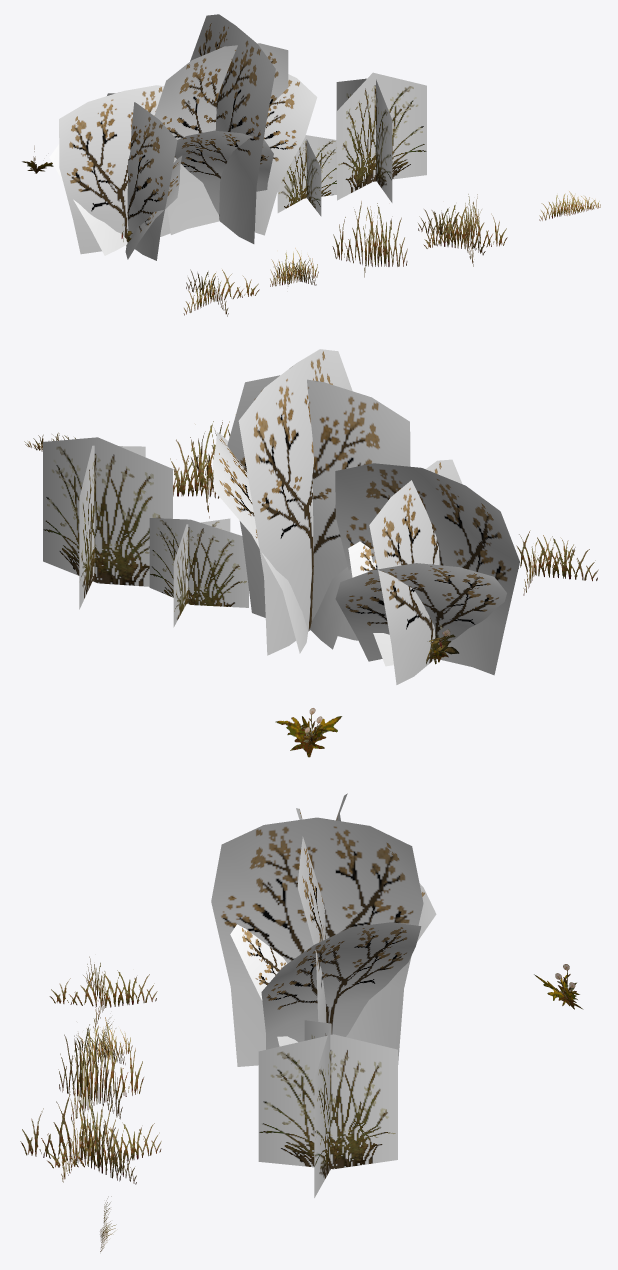
The model's file is Misc_Foliage_Ver_0.1.fbx.
3 views of the same model, one above another, from view 1: azimuth 30°, elevation 25°; view 2: azimuth 150°, elevation 25°; view 3: azimuth 270°, elevation 25° (orthographic). The views are drawn at different scales.
Visible parts, largest first — view 1: Small Tree Bush B, Small Tree Bush A, LongGrass A, LongGrass B, Grass D, Grass C, Grass A, Grass B, Grass E; view 2: Small Tree Bush B, Small Tree Bush A, LongGrass A, LongGrass B, Grass D, Grass A, Dandelion B; view 3: Small Tree Bush B, LongGrass A, Grass D, Grass C, Grass A, Grass B, Dandelion B.
Boxes of the visible parts, x1,y1,x2,y2 form: Small Tree Bush B: [154, 14, 317, 243]; Small Tree Bush A: [49, 85, 181, 260]; LongGrass A: [336, 72, 426, 202]; LongGrass B: [277, 135, 336, 216]; Grass D: [418, 194, 507, 266]; Grass C: [332, 201, 407, 277]; Grass A: [183, 269, 259, 316]; Grass B: [270, 248, 318, 286]; Grass E: [539, 191, 600, 220]; Small Tree Bush B: [213, 349, 410, 655]; Small Tree Bush A: [335, 459, 519, 684]; LongGrass A: [43, 437, 172, 609]; LongGrass B: [149, 518, 248, 627]; Grass D: [170, 414, 235, 518]; Grass A: [516, 530, 598, 595]; Dandelion B: [275, 708, 342, 757]; Small Tree Bush B: [211, 808, 423, 1066]; LongGrass A: [258, 1020, 397, 1197]; Grass D: [20, 1091, 161, 1184]; Grass C: [58, 1017, 143, 1120]; Grass A: [49, 956, 157, 1031]; Grass B: [76, 1017, 132, 1065]; Dandelion B: [534, 964, 583, 1009].
Size of the model in its own units: 769 by 320 by 648.
